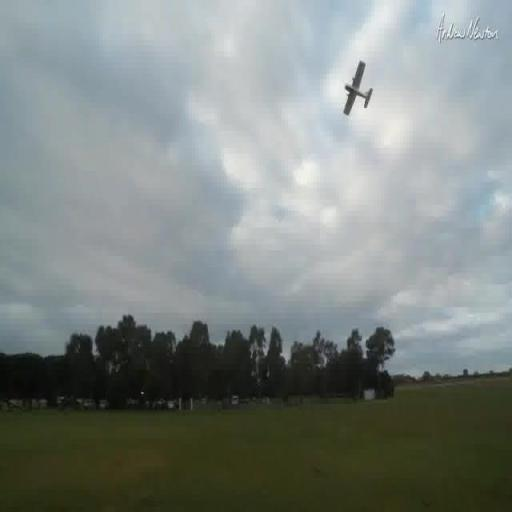uav: (335, 47, 381, 127)
